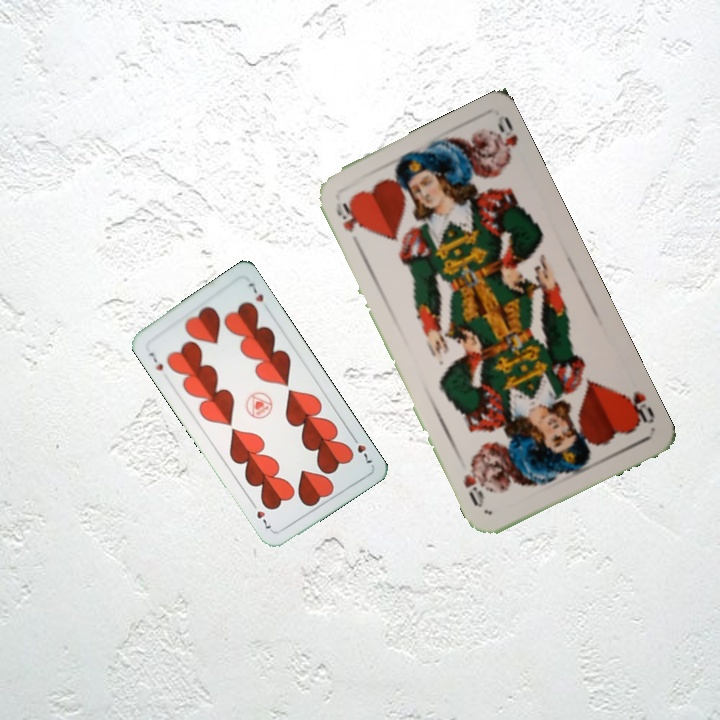H7: (348, 431, 376, 466), (145, 348, 166, 374)
HO: (331, 198, 364, 251), (619, 387, 658, 428)
